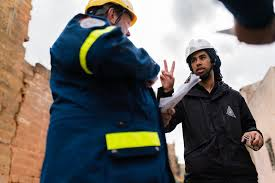Person_wearing_helmet: (177, 34, 219, 65)
